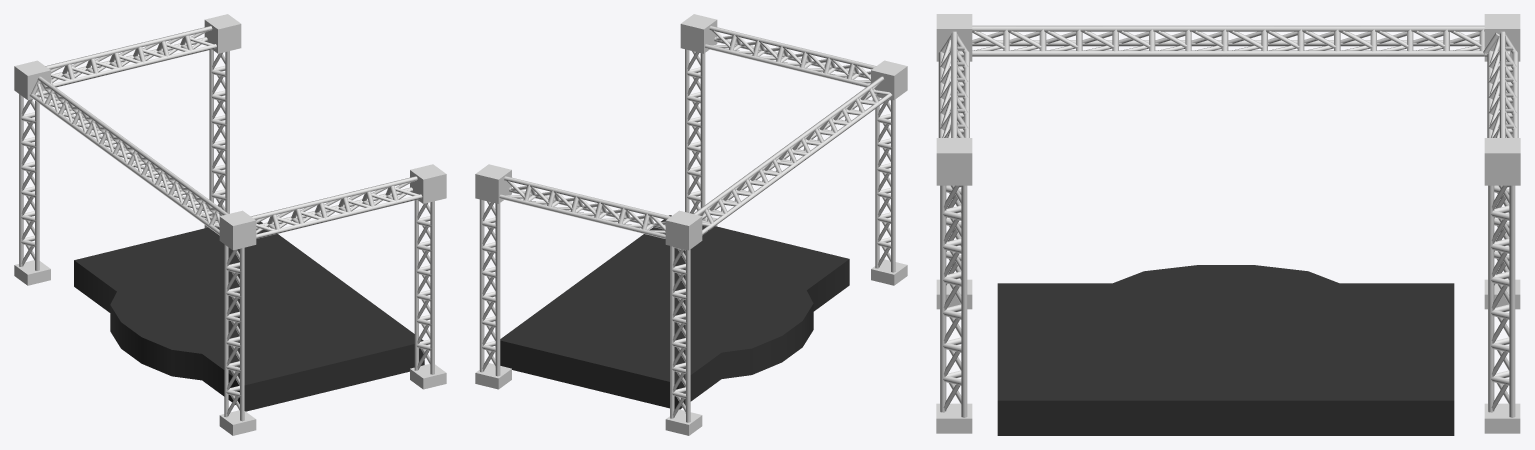
File: StageHighPoly.FBX
3 renders of one model, left to right at view 1: azimuth 30°, elevation 25°; view 2: azimuth 150°, elevation 25°; view 3: azimuth 270°, elevation 25°, orthographic. The views are drawn at different scales.
Parts seen in each view (by area): view 1: Box003; view 2: Box003; view 3: Box003.
Part boxes in pixels (x1,y1,x2,y2): Box003: [14, 14, 446, 435]; Box003: [475, 14, 907, 435]; Box003: [936, 14, 1520, 435].
Size of the model in its own units: 102 by 95.39 by 179.
1 material, 1 textured.
